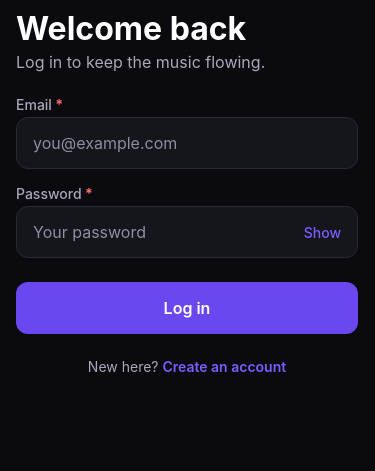
LoginScreen › shows a connectivity message when the server is unreachable
Type "fan@example.com" into the field with test id "login-email".
click(187, 143); type("fan@example.com")  # box [33,125,341,161]
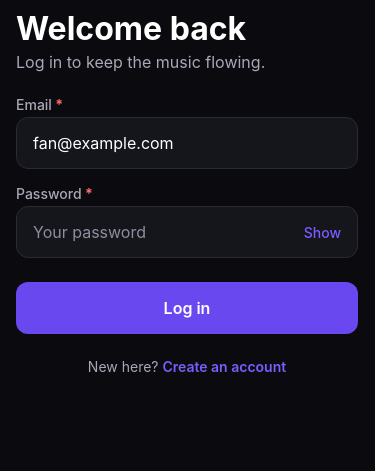
Type "twelve-chars!!" into the password field with test id "login-password".
click(164, 232); type("twelve-chars!!")  # box [33,214,296,250]
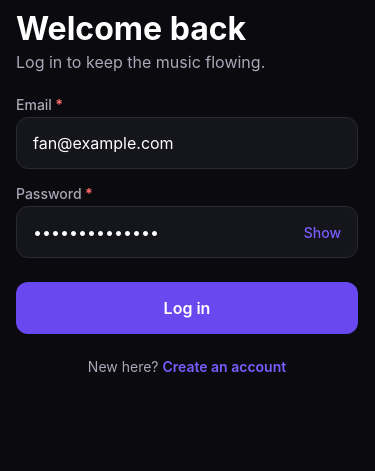
Click the button with test id "login-submit".
click(187, 308)  # box [16,282,358,334]
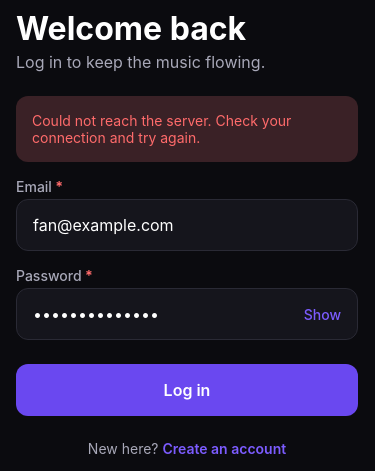
Now the text "Could not reach the server. Check your connection and try again." is shown, box [32,112,295,146]
